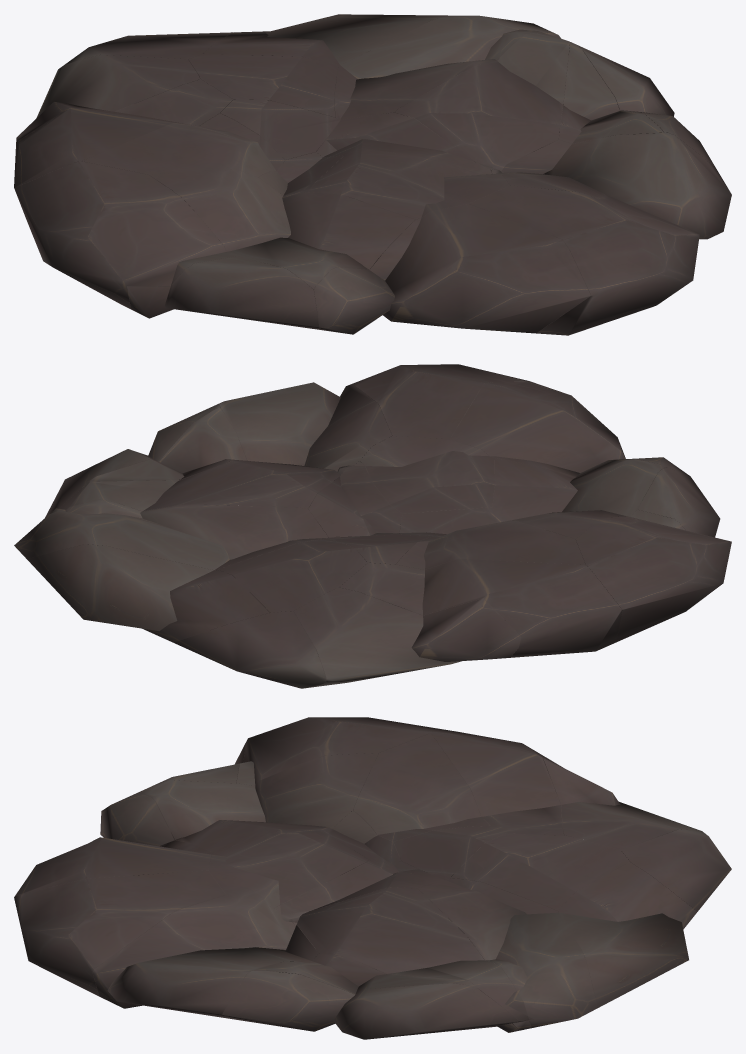
Rendered from broken rock.fbx.
3 renders of one model, top to bottom at view 1: azimuth 30°, elevation 25°; view 2: azimuth 150°, elevation 25°; view 3: azimuth 270°, elevation 25°, orthographic. The views are drawn at different scales.
Visible parts, largest first — view 1: Rock2Collider.004_cell.009, Rock2Collider.004_cell.014, Rock2Collider.004_cell.008, Rock2Collider.004_cell.054, Rock2Collider.004_cell.045, Rock2Collider.004_cell.024, Rock2Collider.004_cell.005, Rock2Collider.004_cell.022, Rock2Collider.004_cell.041, Rock2Collider.004_cell.004, Rock2Collider.004_cell.020, Rock2Collider.004_cell.023 (+28 smaller); view 2: Rock2Collider.004_cell.013, Rock2Collider.004_cell.014, Rock2Collider.004_cell.009, Rock2Collider.004_cell.057, Rock2Collider.004_cell.023, Rock2Collider.004_cell.008, Rock2Collider.004_cell.015, Rock2Collider.004_cell.020, Rock2Collider.004_cell.054, Rock2Collider.004_cell, Rock2Collider.004_cell.004, Rock2Collider.004_cell.045 (+22 smaller); view 3: Rock2Collider.004_cell.008, Rock2Collider.004_cell.045, Rock2Collider.004_cell.041, Rock2Collider.004_cell.018, Rock2Collider.004_cell.004, Rock2Collider.004_cell.054, Rock2Collider.004_cell.020, Rock2Collider.004_cell.051, Rock2Collider.004_cell.057, Rock2Collider.004_cell.014, Rock2Collider.004_cell.013, Rock2Collider.004_cell.005 (+27 smaller).
Part boxes in pixels (box(x1,y1,x2,y2)): Rock2Collider.004_cell.009: box(383, 204, 590, 333); Rock2Collider.004_cell.014: box(14, 161, 236, 313); Rock2Collider.004_cell.008: box(469, 185, 699, 335); Rock2Collider.004_cell.054: box(543, 132, 731, 239); Rock2Collider.004_cell.045: box(394, 61, 565, 171); Rock2Collider.004_cell.024: box(164, 256, 320, 329); Rock2Collider.004_cell.005: box(149, 169, 290, 251); Rock2Collider.004_cell.022: box(308, 148, 498, 219); Rock2Collider.004_cell.041: box(82, 122, 278, 177); Rock2Collider.004_cell.004: box(187, 54, 338, 158); Rock2Collider.004_cell.020: box(340, 15, 553, 116); Rock2Collider.004_cell.023: box(36, 55, 200, 117); Rock2Collider.004_cell.013: box(367, 559, 621, 657); Rock2Collider.004_cell.014: box(575, 509, 731, 642); Rock2Collider.004_cell.009: box(450, 381, 625, 472); Rock2Collider.004_cell.057: box(27, 544, 213, 630); Rock2Collider.004_cell.023: box(293, 587, 461, 686); Rock2Collider.004_cell.008: box(352, 364, 530, 457); Rock2Collider.004_cell.015: box(174, 611, 326, 688); Rock2Collider.004_cell.020: box(14, 510, 229, 570); Rock2Collider.004_cell.054: box(218, 382, 340, 465); Rock2Collider.004_cell: box(140, 504, 328, 570); Rock2Collider.004_cell.004: box(217, 538, 367, 656); Rock2Collider.004_cell.045: box(143, 461, 339, 520); Rock2Collider.004_cell.008: box(14, 870, 225, 998); Rock2Collider.004_cell.045: box(296, 887, 484, 988); Rock2Collider.004_cell.041: box(353, 733, 481, 847); Rock2Collider.004_cell.018: box(92, 895, 295, 1008); Rock2Collider.004_cell.004: box(450, 833, 629, 911); Rock2Collider.004_cell.054: box(107, 947, 314, 1020); Rock2Collider.004_cell.020: box(480, 912, 597, 1027); Rock2Collider.004_cell.051: box(333, 983, 518, 1039); Rock2Collider.004_cell.057: box(559, 912, 688, 1007); Rock2Collider.004_cell.014: box(236, 717, 455, 826); Rock2Collider.004_cell.013: box(431, 731, 566, 839); Rock2Collider.004_cell.005: box(255, 753, 378, 829).
Size of the model in its own units: 734 by 115 by 761.
